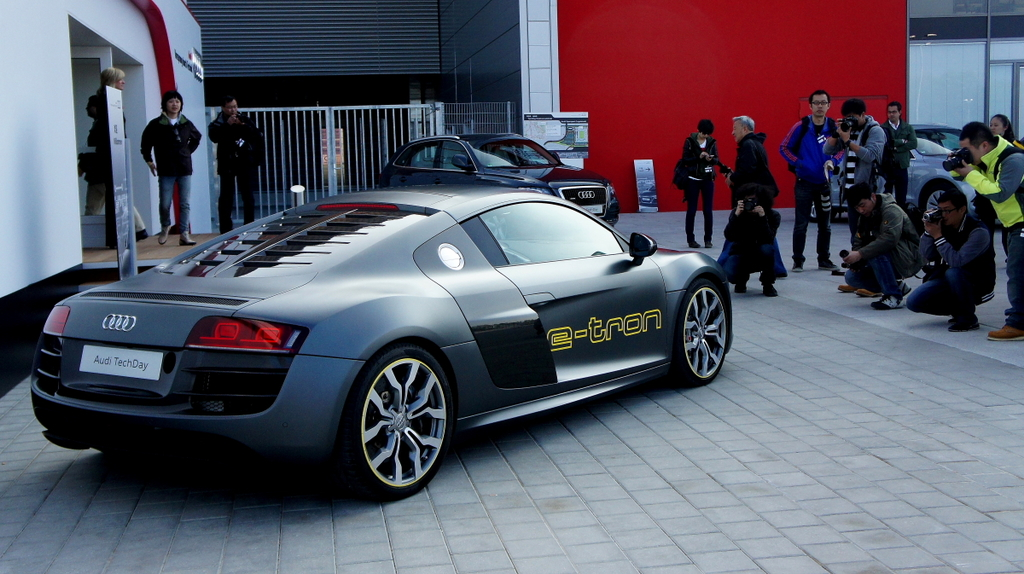Car: (25, 185, 738, 506), (377, 132, 622, 228), (812, 128, 976, 220)
